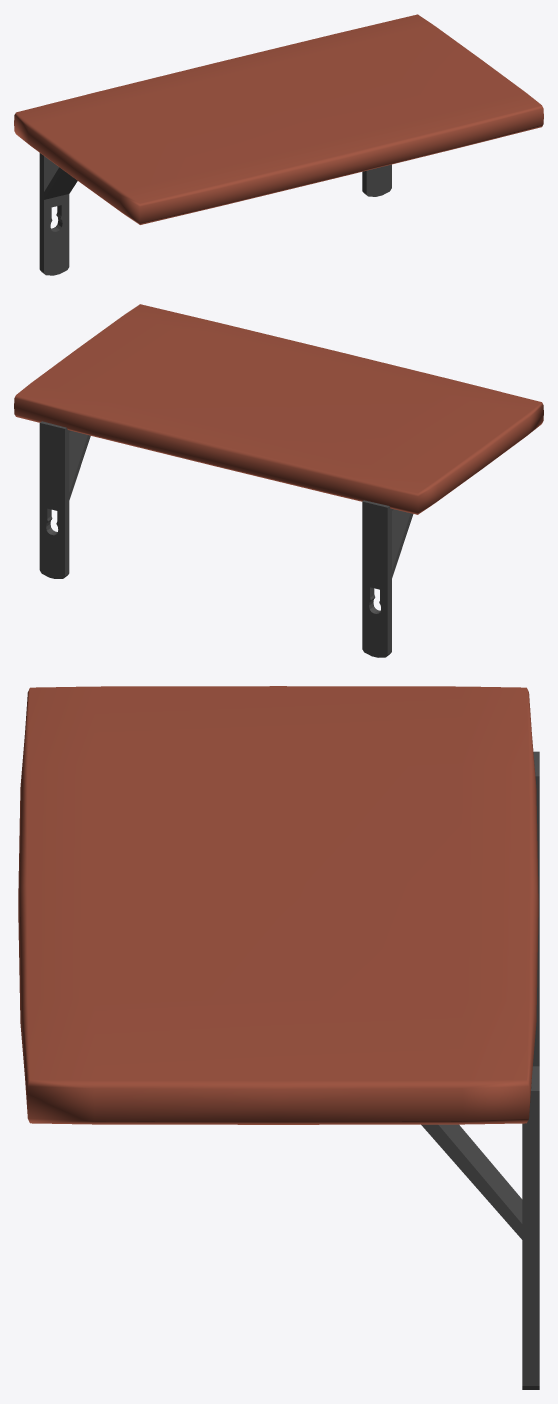
The model's file is Shelf_b.fbx.
3 views of the same model, one above another, from view 1: azimuth 30°, elevation 25°; view 2: azimuth 150°, elevation 25°; view 3: azimuth 270°, elevation 25° (orthographic). The views are drawn at different scales.
Parts seen in each view (by area): view 1: Cube.001; view 2: Cube.001; view 3: Cube.001.
Part boxes in pixels (x1,y1,x2,y2): Cube.001: (14, 14, 543, 275); Cube.001: (14, 304, 543, 657); Cube.001: (18, 686, 539, 1389).
Size of the model in its own units: 590 by 235 by 324.
